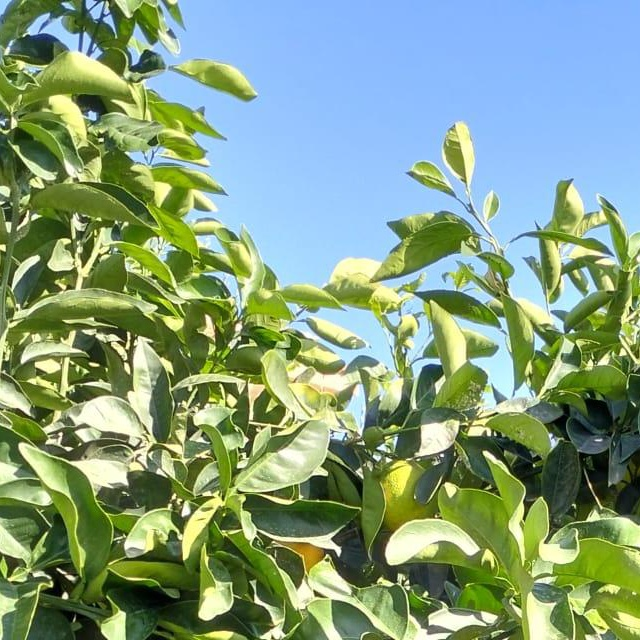orange: (375, 454, 447, 530)
